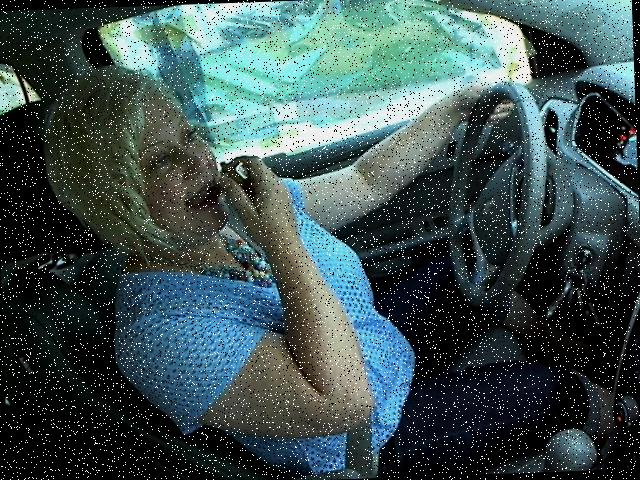c6 - Hair and Makeup: (34, 43, 562, 441)
